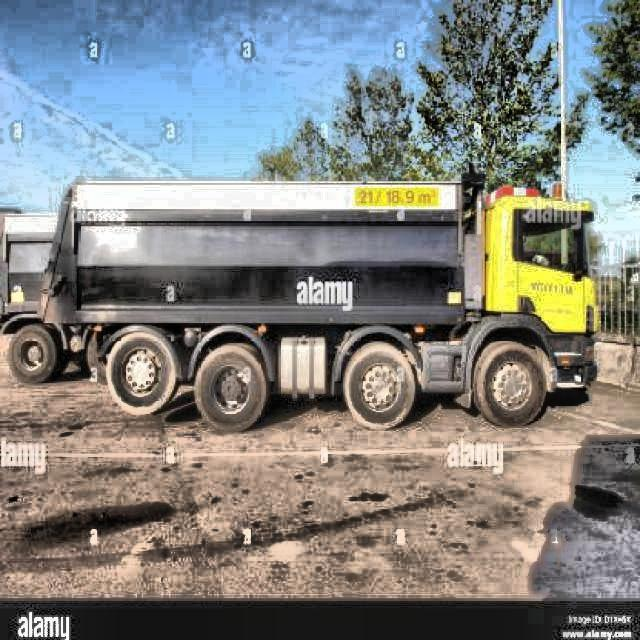dump_truck: (0, 174, 604, 445)
